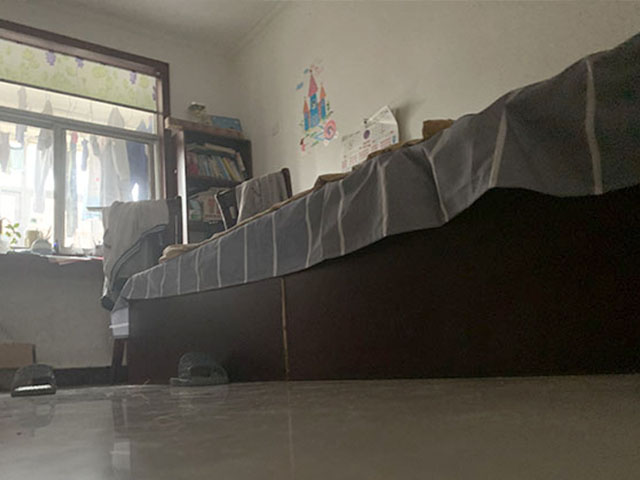bed: (122, 40, 640, 388)
slippers: (168, 350, 230, 387), (10, 363, 59, 398)
